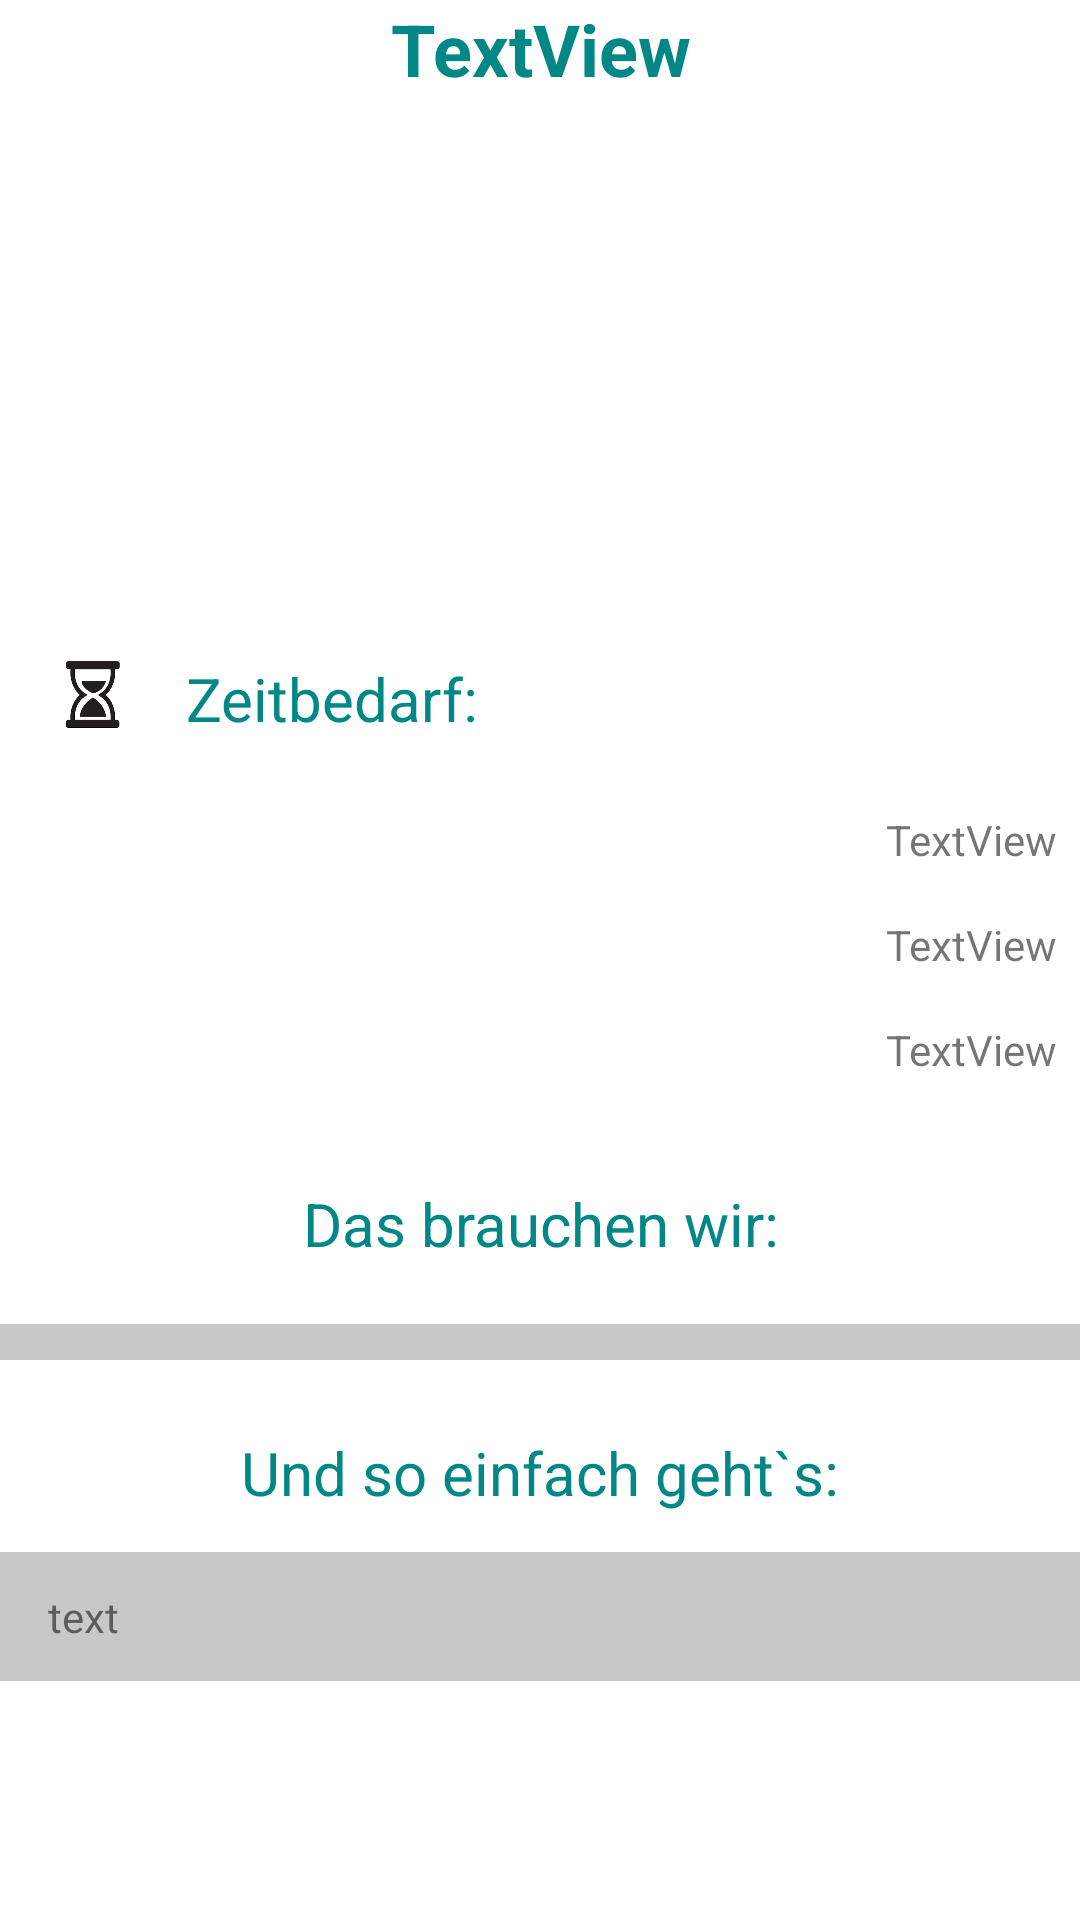

Icon bounding boxes for this 1080*1920 phone screenshot, format (x1, y1, x2, y2):
uhr: (66, 661, 120, 728)
